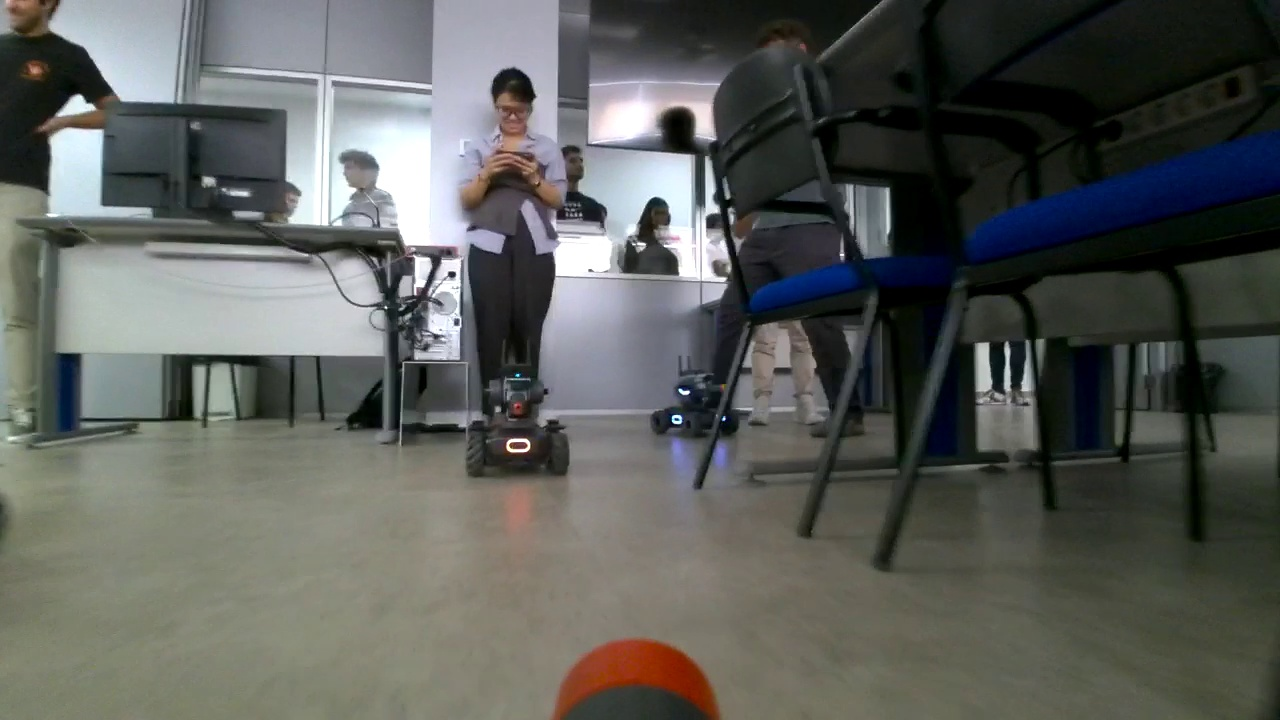robot: (463, 339, 573, 478), (647, 357, 746, 436)
